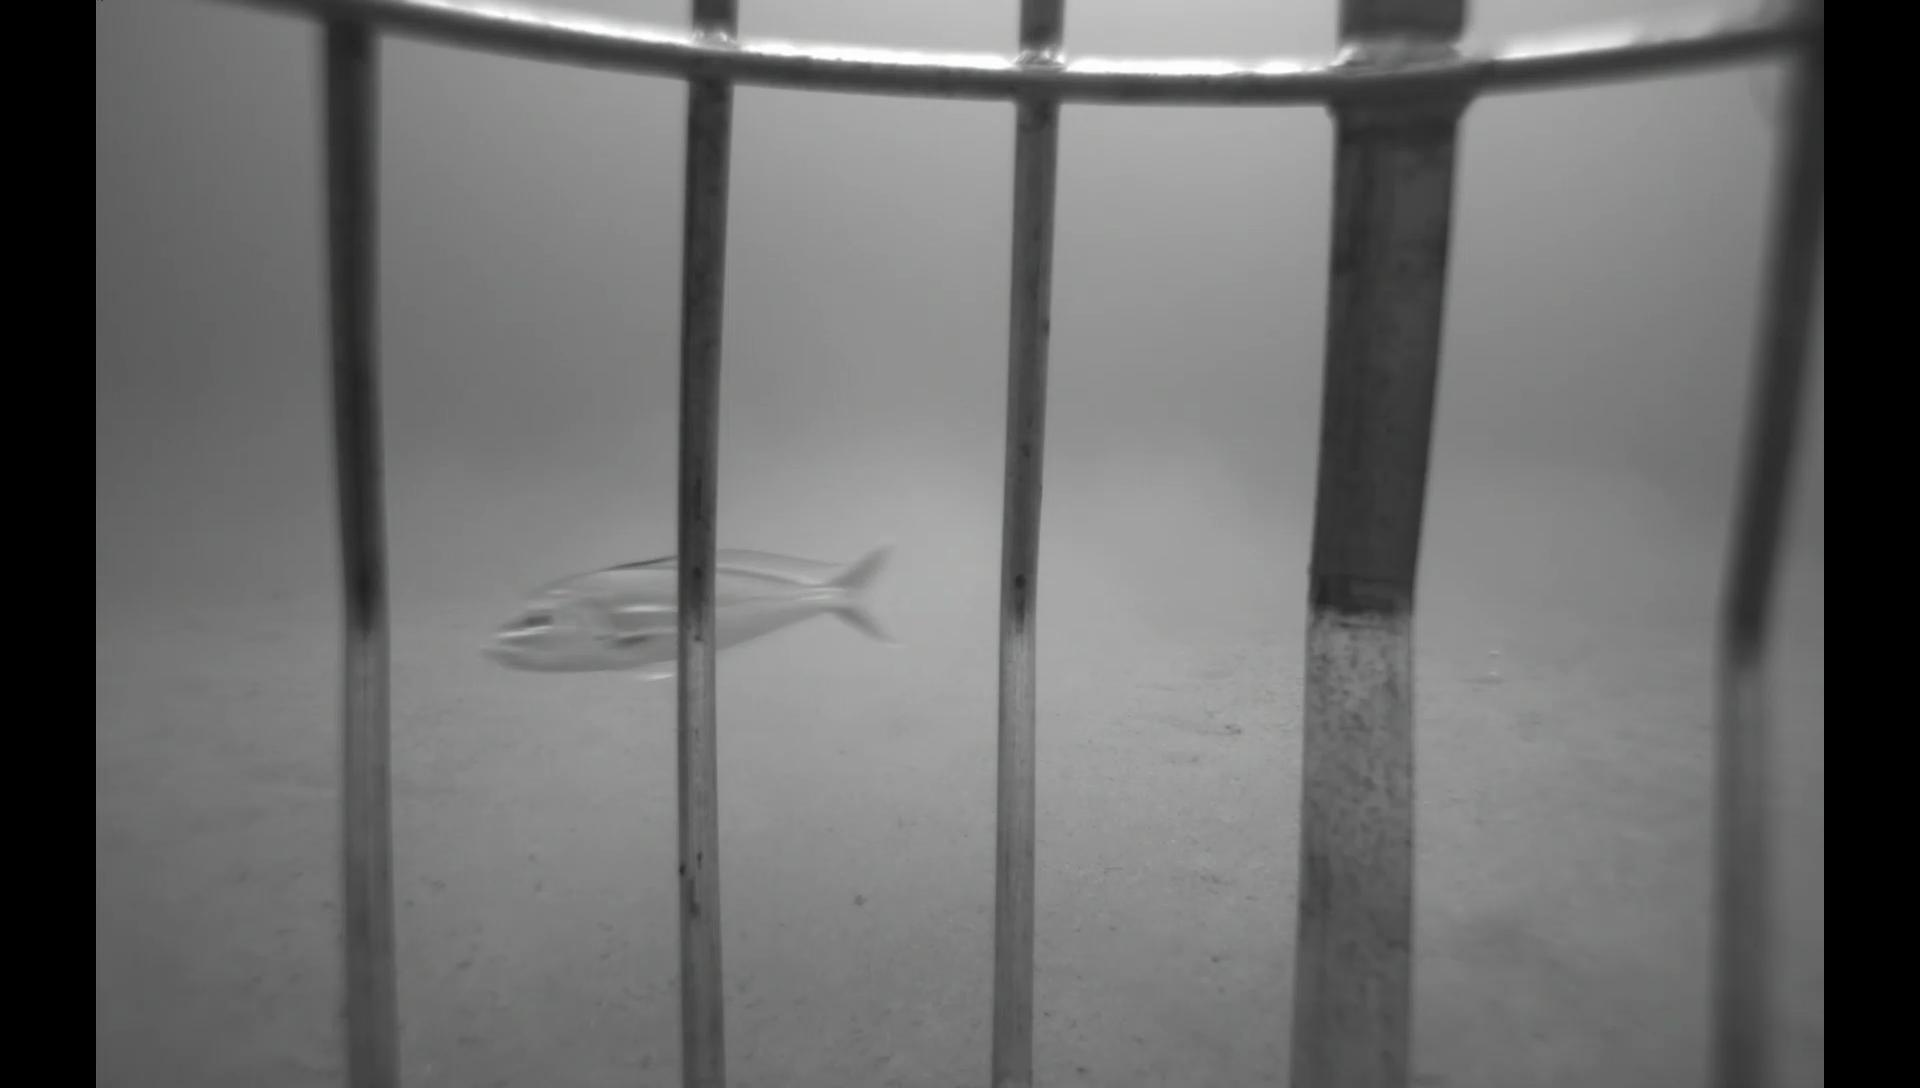CAULOLATILUSCYANOPS-170070101: (468, 535, 913, 682)
SYACIUM-183011000: (1143, 699, 1249, 742)
